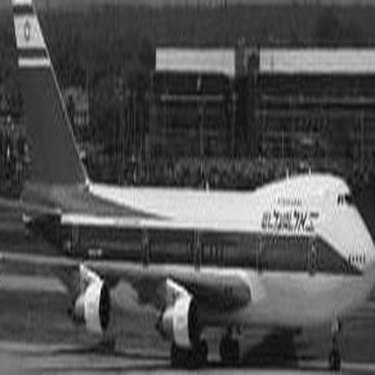airplane: (5, 3, 370, 371)
